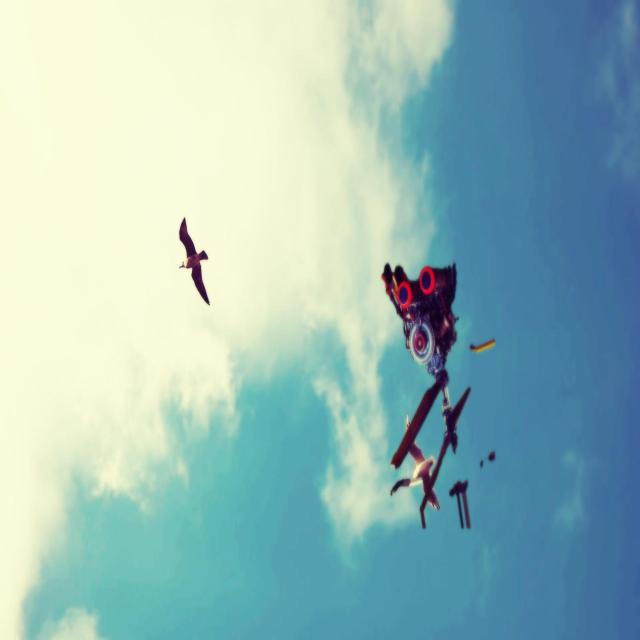airplane: (380, 260, 496, 530)
